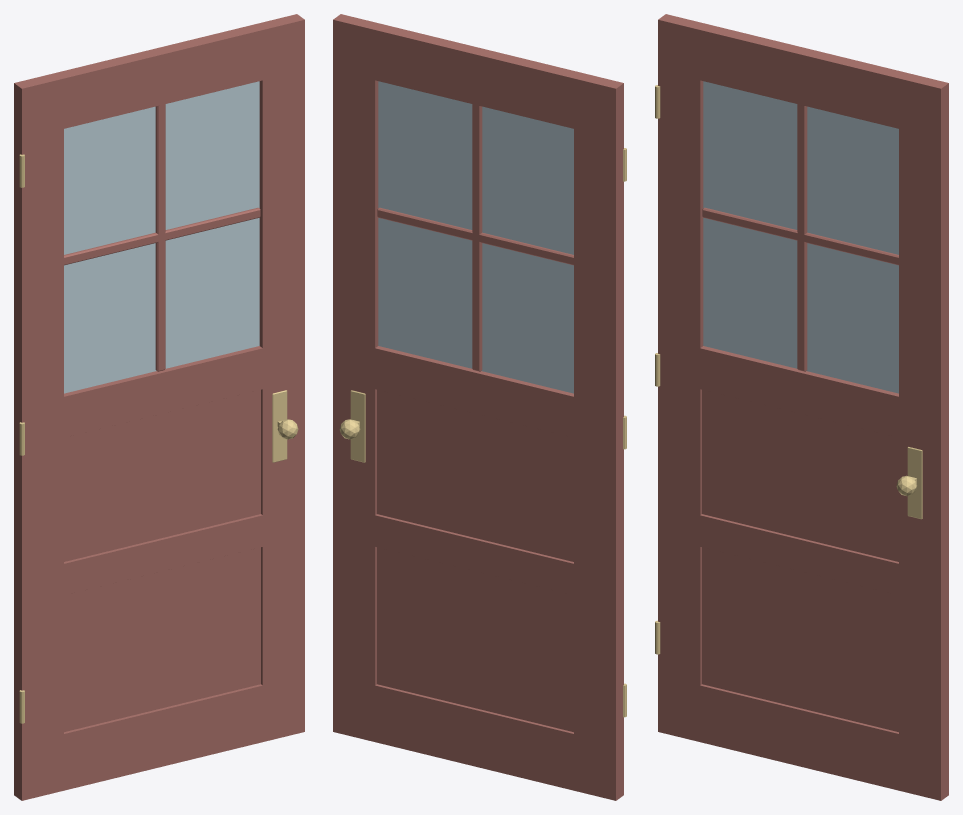
The model's file is door_back.glb.
3 renders of one model, left to right at view 1: azimuth 30°, elevation 25°; view 2: azimuth 150°, elevation 25°; view 3: azimuth 330°, elevation 25°, orthographic.
Visible parts, largest first — view 1: door_back_door, door_back_glass, door_back_brass; view 2: door_back_door, door_back_glass, door_back_brass; view 3: door_back_door, door_back_glass, door_back_brass.
Part boxes in pixels (box(x1,y1,x2,y2)): door_back_door: box(14, 14, 304, 800); door_back_glass: box(64, 81, 259, 393); door_back_brass: box(19, 154, 298, 723); door_back_door: box(333, 14, 623, 800); door_back_glass: box(378, 81, 573, 393); door_back_brass: box(339, 148, 626, 717); door_back_door: box(658, 14, 948, 800); door_back_glass: box(703, 81, 898, 393); door_back_brass: box(655, 85, 922, 654).
Bounding box in the file's own units: 0.948 × 2.26 × 0.205.
